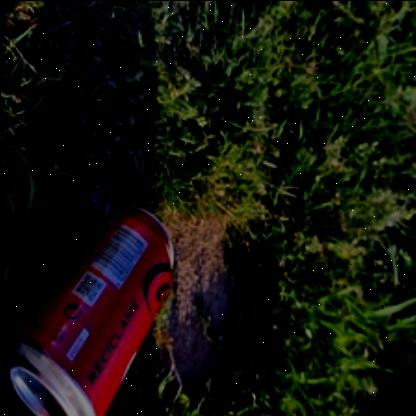Can: (8, 204, 172, 416)
